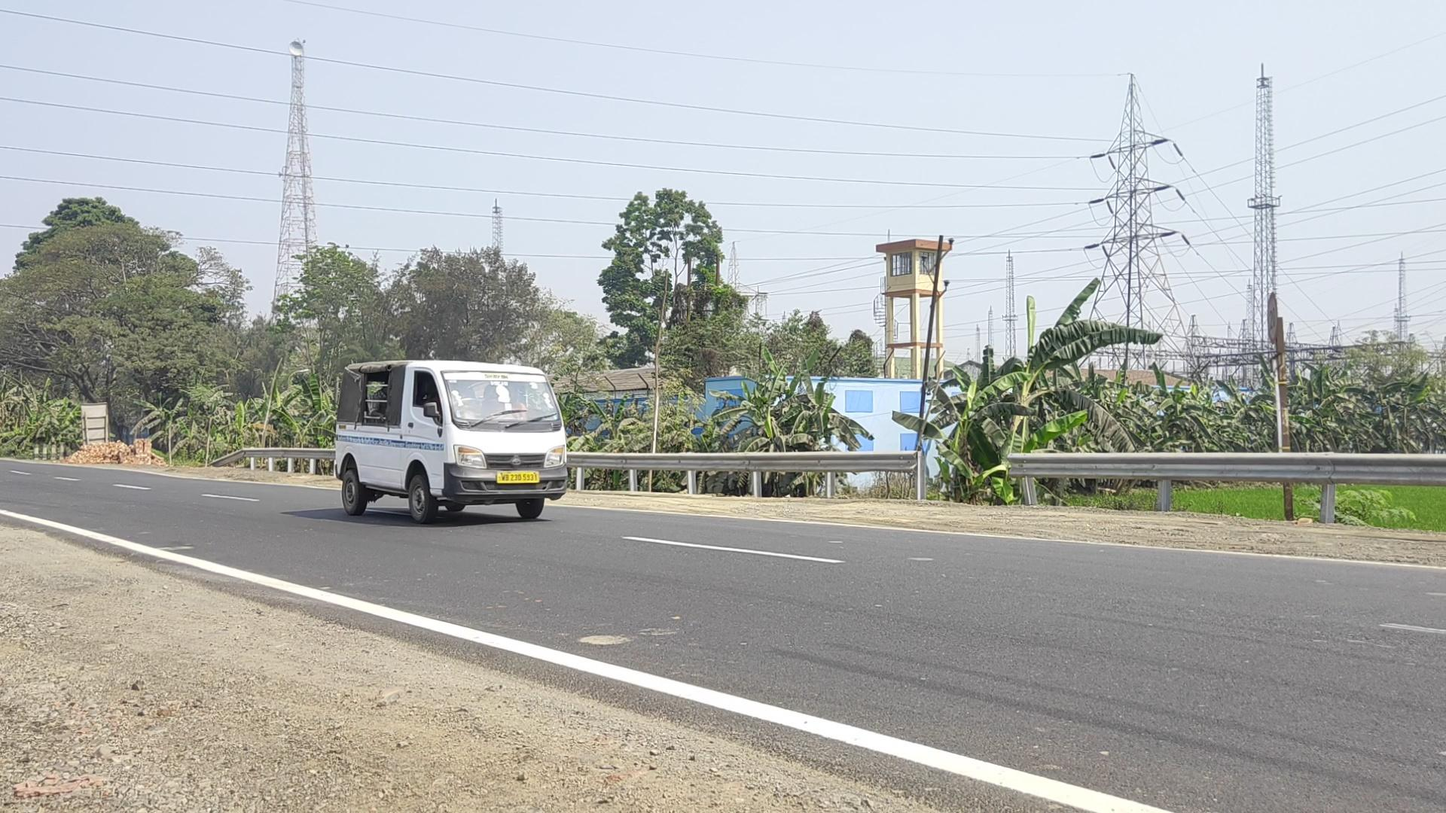van: (334, 360, 568, 524)
